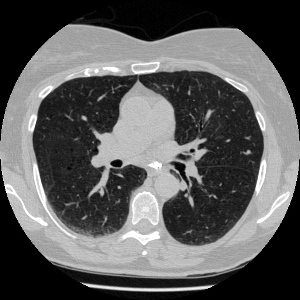nodule: (246, 150, 250, 154)
